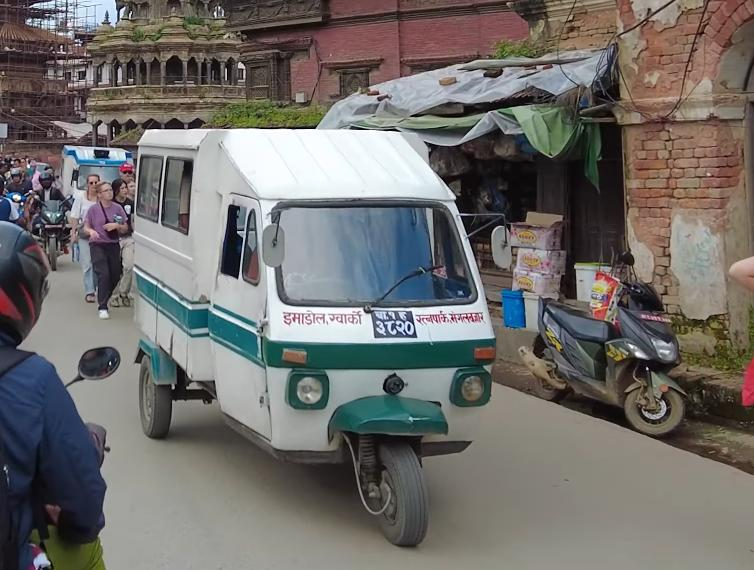tempo: (132, 123, 501, 550), (55, 140, 138, 236)
